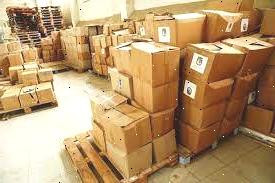Box: (93, 101, 152, 156), (91, 130, 152, 180), (182, 40, 245, 83), (132, 42, 179, 86), (224, 36, 275, 76), (202, 10, 260, 42), (180, 75, 233, 109), (154, 13, 205, 48), (132, 76, 178, 114), (111, 38, 154, 74), (176, 101, 229, 130), (60, 27, 91, 72), (177, 124, 222, 154), (90, 35, 113, 75), (149, 106, 175, 141), (152, 130, 178, 164), (243, 105, 274, 133), (109, 68, 132, 101), (230, 74, 254, 101), (135, 0, 202, 9), (2, 85, 20, 110), (224, 101, 244, 123), (19, 86, 37, 107), (37, 82, 53, 103), (21, 71, 38, 87), (22, 48, 39, 64), (8, 52, 25, 67), (9, 66, 23, 84), (37, 68, 53, 82)
pallet: (63, 131, 178, 183)
